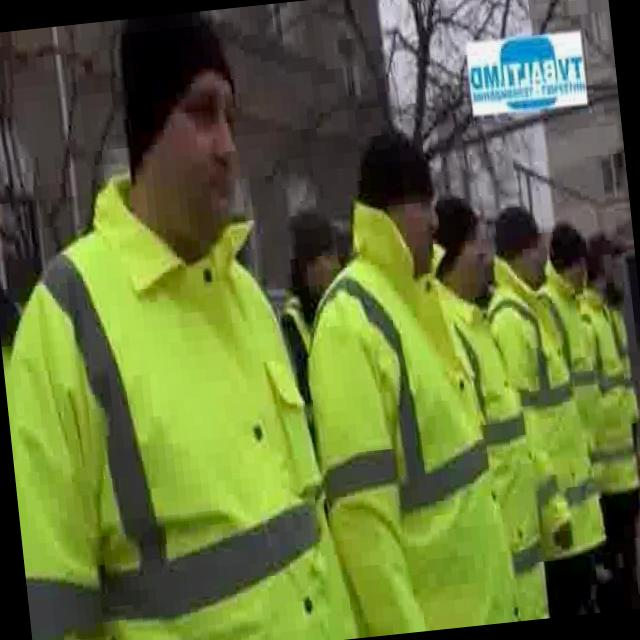vest: (0, 150, 357, 640), (290, 185, 522, 640), (434, 261, 552, 626), (476, 243, 609, 566), (538, 253, 616, 510), (571, 283, 640, 506)
